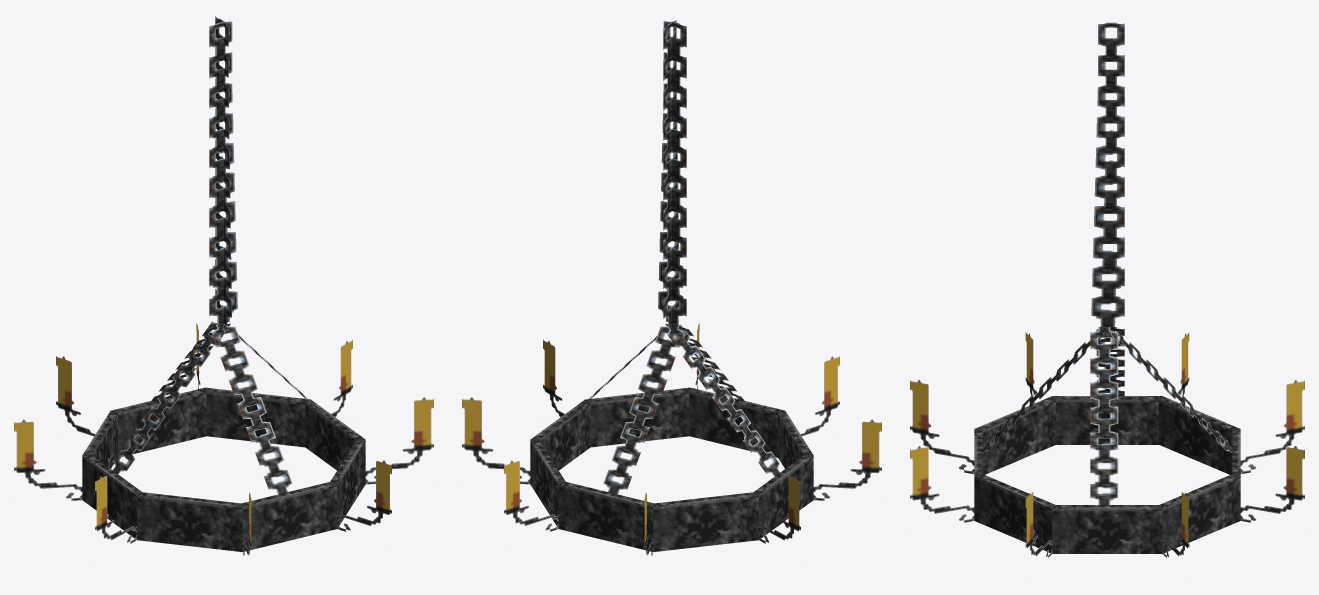
The model's file is SM_Dungeon_Chandelier.fbx.
The picture shows the model from 3 angles, left to right: view 1: azimuth 30°, elevation 25°; view 2: azimuth 150°, elevation 25°; view 3: azimuth 270°, elevation 25°; orthographic projection.
Parts seen in each view (by area): view 1: SM_Dungeon_Chandalier; view 2: SM_Dungeon_Chandalier; view 3: SM_Dungeon_Chandalier.
Boxes of the visible parts, <box> form: SM_Dungeon_Chandalier: <box>14,16,433,555</box>; SM_Dungeon_Chandalier: <box>462,20,881,555</box>; SM_Dungeon_Chandalier: <box>910,22,1304,557</box>.
Size of the model in its own units: 111 by 148 by 111.
